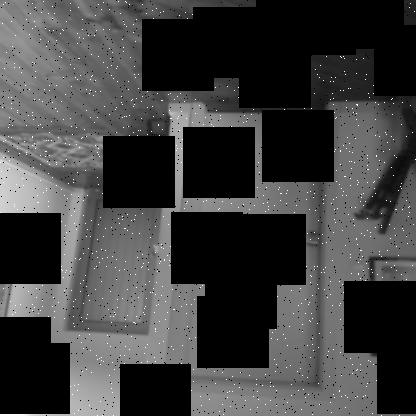Porte: (160, 100, 340, 401), (65, 187, 159, 338)
